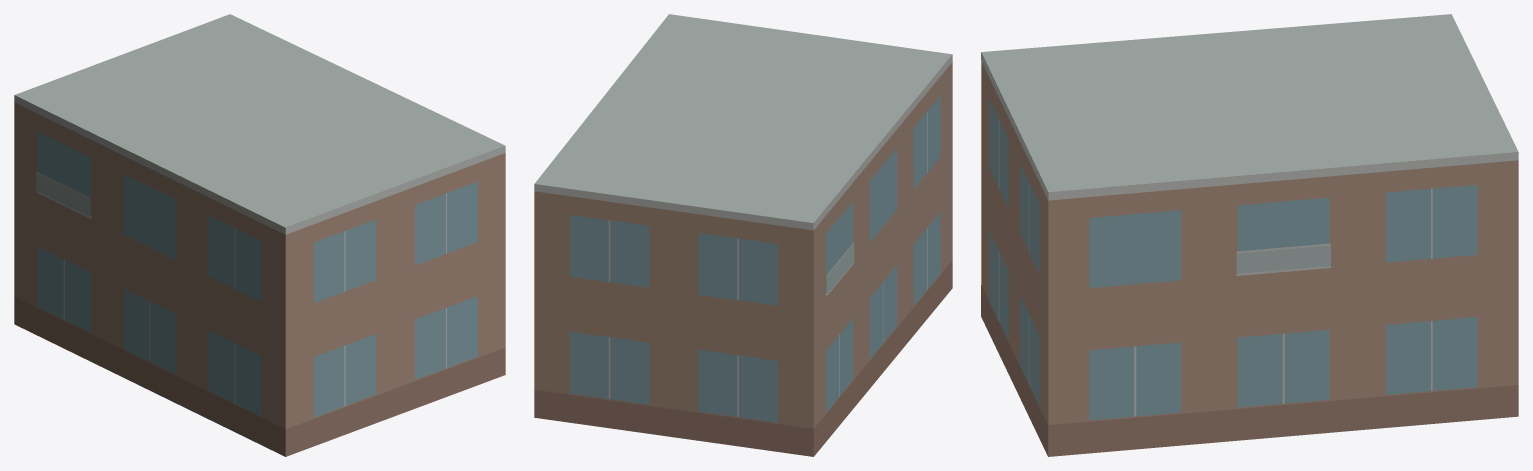
Rendered from survey-upis-32990860.glb.
3 renders of one model, left to right at view 1: azimuth 30°, elevation 25°; view 2: azimuth 150°, elevation 25°; view 3: azimuth 270°, elevation 25°, orthographic. The views are drawn at different scales.
Parts seen in each view (by area): view 1: survey-upis-32990860.tmp; view 2: survey-upis-32990860.tmp; view 3: survey-upis-32990860.tmp.
Part boxes in pixels (x1,y1,x2,y2): survey-upis-32990860.tmp: (14,14,505,456); survey-upis-32990860.tmp: (534,14,952,456); survey-upis-32990860.tmp: (981,14,1518,456).
Bounding box in the file's own units: 11.28 × 7.8 × 14.37.
